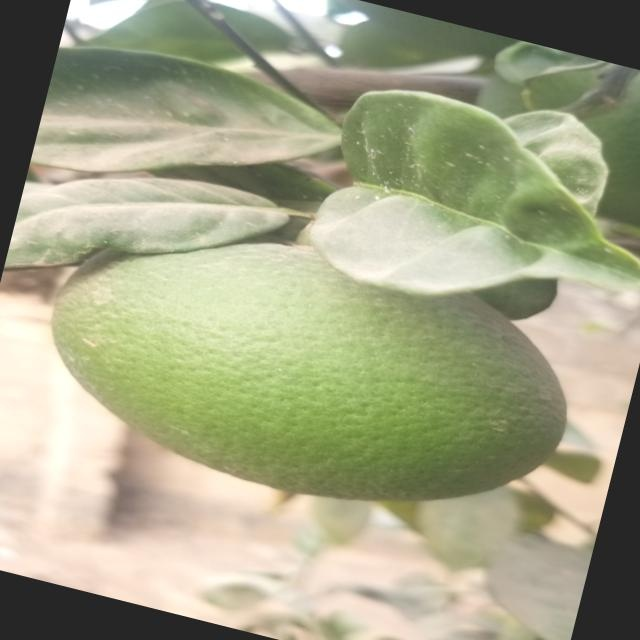agrume: (22, 193, 589, 551)
